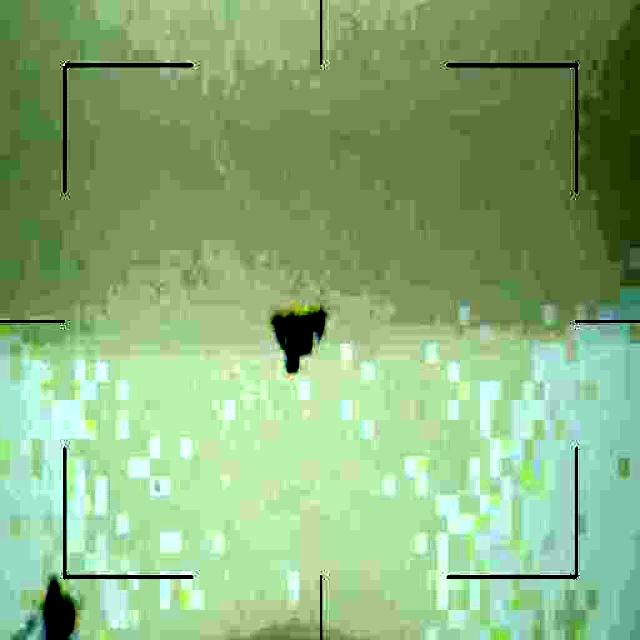bird: (266, 300, 330, 376)
